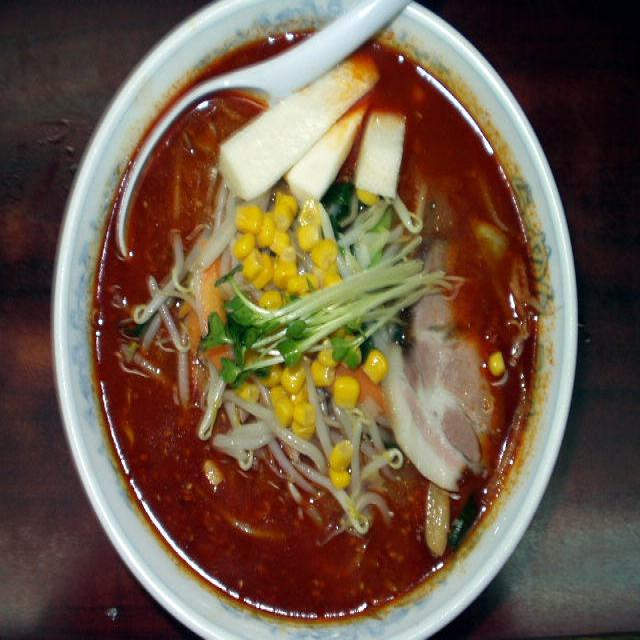面条主食: (38, 0, 588, 640)
